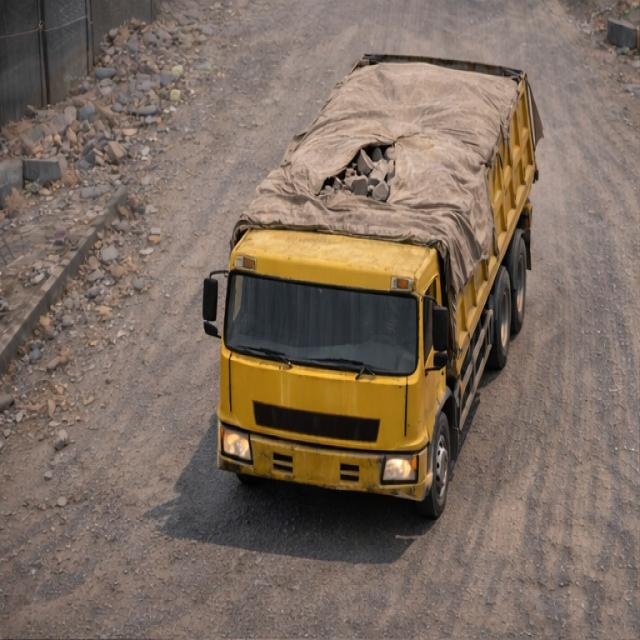Box: (246, 58, 542, 228)
Truck: (203, 46, 572, 511)
